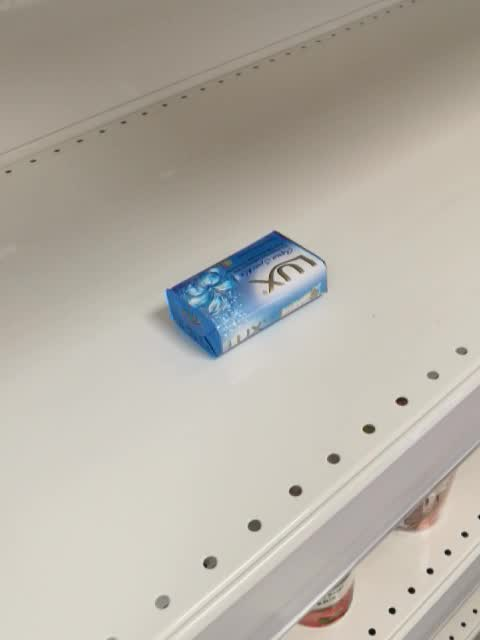soap: (164, 229, 329, 358)
